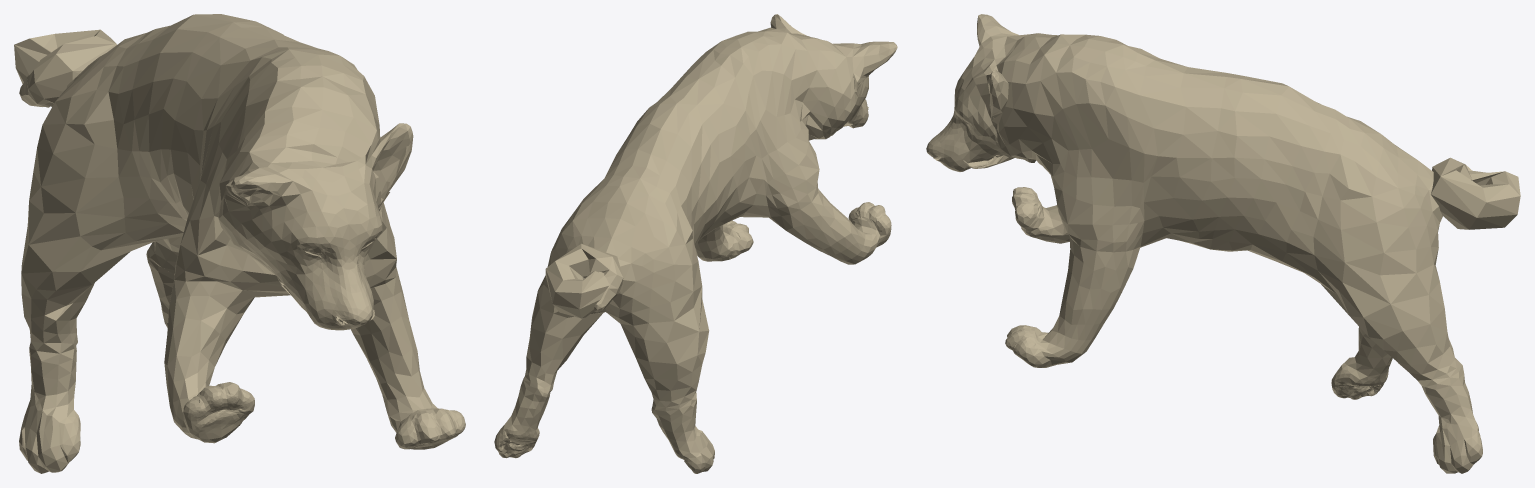
3 renders of one model, left to right at view 1: azimuth 30°, elevation 25°; view 2: azimuth 150°, elevation 25°; view 3: azimuth 270°, elevation 25°, orthographic. The views are drawn at different scales.
Visible parts, largest first — view 1: world; view 2: world; view 3: world.
Boxes of the visible parts, box(x1,y1,x2,y2) form: world: box(14, 14, 465, 473); world: box(494, 14, 897, 473); world: box(926, 14, 1520, 473).
Size of the model in its own units: 0.553 by 0.8651 by 1.19.
